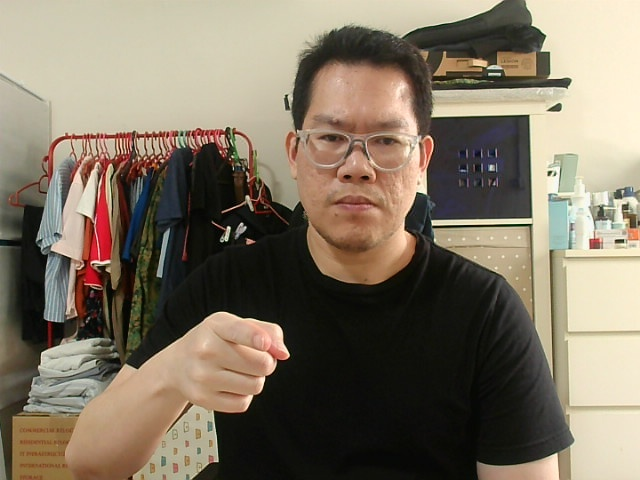you: (174, 319, 278, 404)
